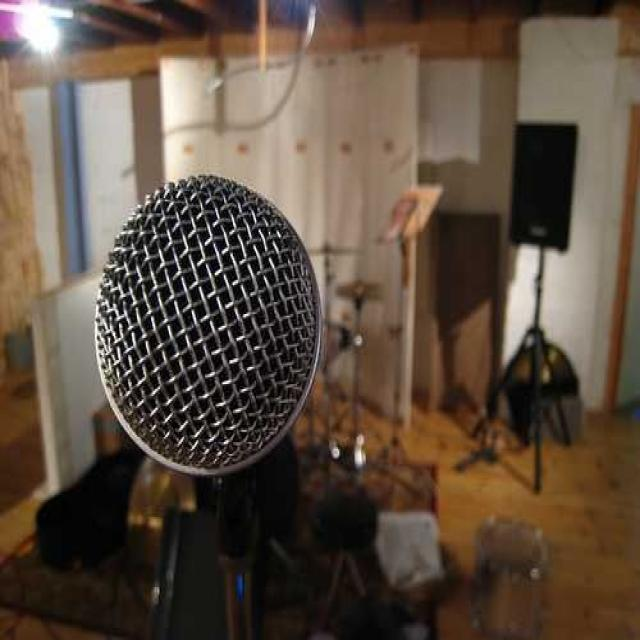microphone: (78, 184, 344, 486)
